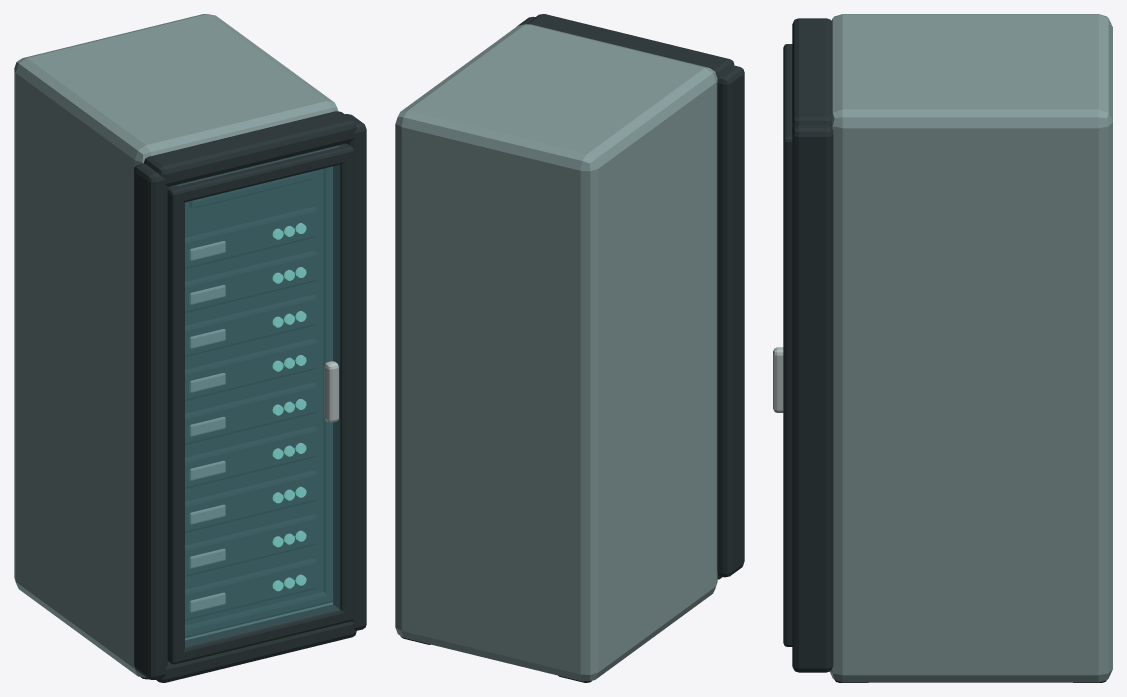
Rendered from 01_it_sealed_server_rack_0p8x0p9x2m.glb.
The picture shows the model from 3 angles, left to right: view 1: azimuth 30°, elevation 25°; view 2: azimuth 150°, elevation 25°; view 3: azimuth 270°, elevation 25°; orthographic projection. The views are drawn at different scales.
Parts seen in each view (by area): view 1: SERVER_Main_Cabinet, SERVER_Door_Panel, SERVER_Recess_Panel, SERVER_Sealed_Frame_Left, SERVER_Door_Frame_Right, SERVER_Door_Frame_Left, SERVER_Sealed_Frame_Top, SERVER_Sealed_Frame_Right, SERVER_Door_Frame_Bottom, SERVER_Recess_Rail_Right, SERVER_Blade_1, SERVER_Blade_2 (+12 smaller); view 2: SERVER_Main_Cabinet, SERVER_Sealed_Frame_Left, SERVER_Sealed_Frame_Top; view 3: SERVER_Main_Cabinet, SERVER_Sealed_Frame_Right, SERVER_Door_Frame_Right, SERVER_Sealed_Frame_Top, SERVER_Door_Frame_Top, SERVER_Door_Handle.
Boxes of the visible parts, x1,y1,x2,y2 form: SERVER_Main_Cabinet: [14, 14, 338, 677]; SERVER_Door_Panel: [176, 146, 339, 647]; SERVER_Recess_Panel: [185, 169, 322, 625]; SERVER_Sealed_Frame_Left: [134, 163, 168, 679]; SERVER_Door_Frame_Right: [333, 143, 354, 622]; SERVER_Door_Frame_Left: [167, 184, 184, 654]; SERVER_Sealed_Frame_Top: [144, 111, 356, 186]; SERVER_Sealed_Frame_Right: [345, 114, 366, 630]; SERVER_Door_Frame_Bottom: [167, 604, 354, 664]; SERVER_Recess_Rail_Right: [323, 166, 332, 595]; SERVER_Blade_1: [185, 558, 316, 620]; SERVER_Blade_2: [185, 514, 316, 576]; SERVER_Main_Cabinet: [395, 24, 717, 681]; SERVER_Sealed_Frame_Left: [717, 65, 744, 577]; SERVER_Sealed_Frame_Top: [526, 14, 734, 77]; SERVER_Main_Cabinet: [830, 14, 1112, 682]; SERVER_Sealed_Frame_Right: [792, 125, 833, 672]; SERVER_Door_Frame_Right: [783, 133, 792, 635]; SERVER_Sealed_Frame_Top: [792, 18, 831, 128]; SERVER_Door_Frame_Top: [783, 48, 792, 150]; SERVER_Door_Handle: [773, 347, 783, 412].
Size of the model in its own units: 0.86 by 2 by 1.08.
